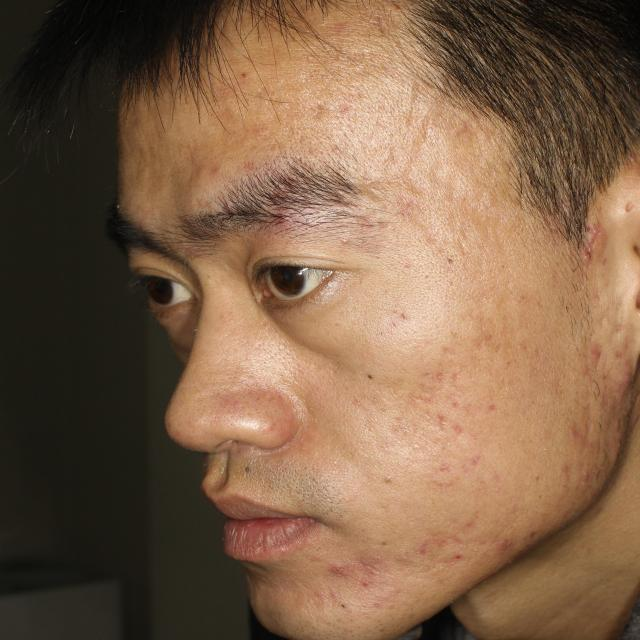papule: (574, 338, 609, 372), (572, 225, 607, 259), (193, 150, 229, 183), (320, 560, 352, 589), (418, 532, 446, 563), (558, 420, 596, 442), (569, 459, 604, 482), (489, 533, 517, 559), (448, 546, 475, 571), (348, 556, 364, 581), (242, 122, 265, 138)
